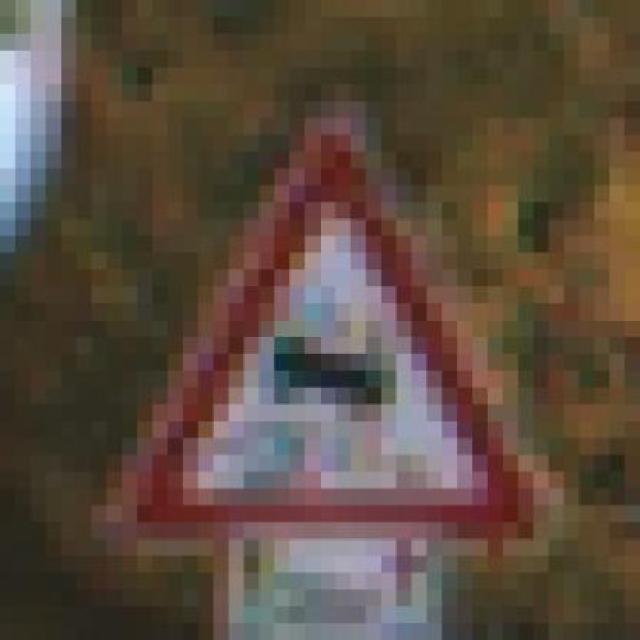Slippery Road Ahead: (107, 101, 564, 573)
